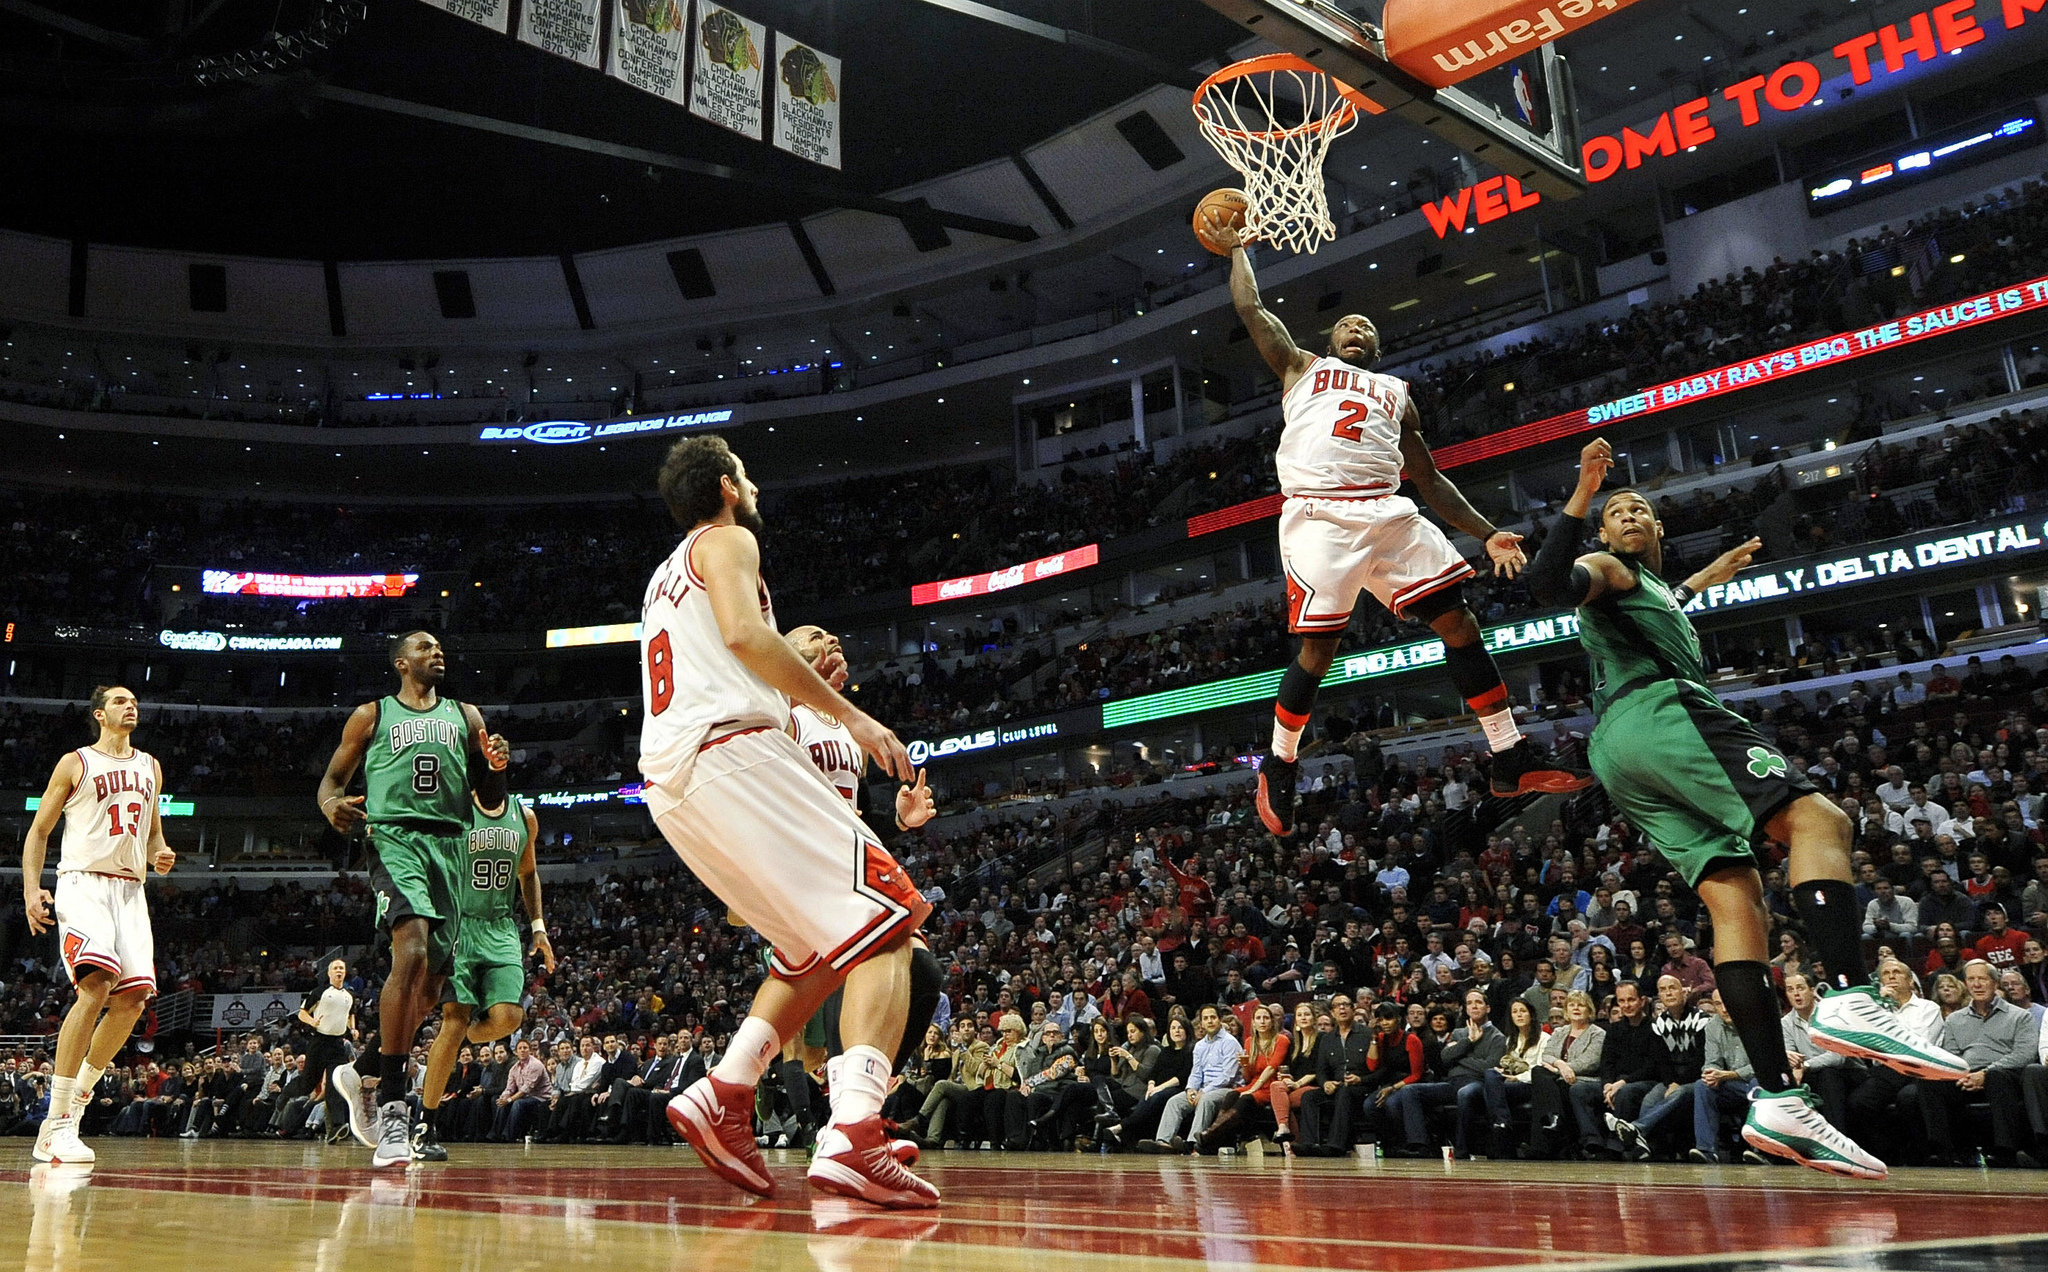basketball: (1190, 183, 1262, 266)
basketball player: (1535, 448, 1983, 1179), (625, 435, 949, 1220), (1196, 252, 1588, 811), (318, 626, 483, 1170), (25, 679, 179, 1187), (416, 731, 546, 1168)
